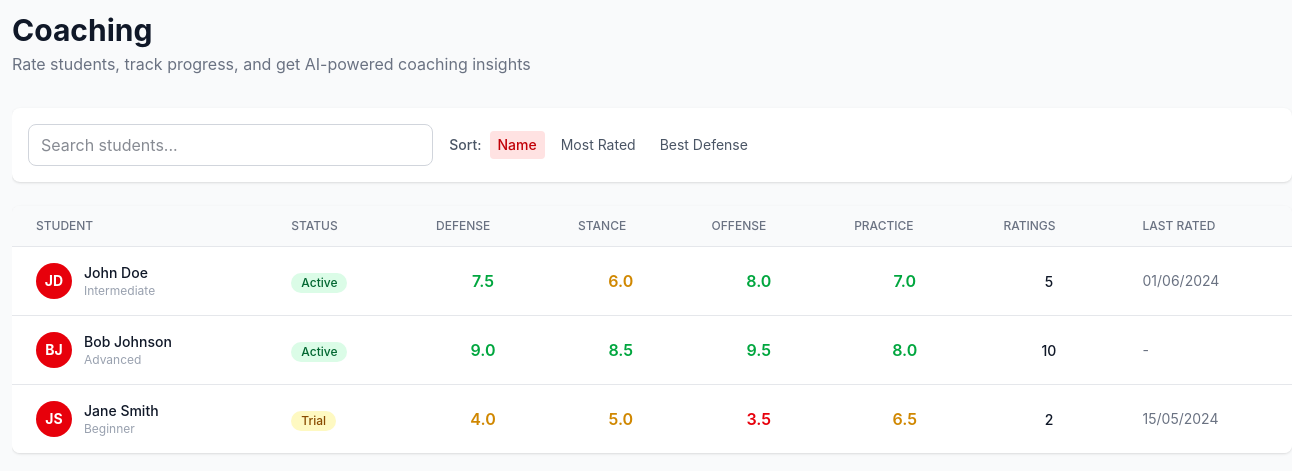
Test: Coaching Page › search filters results by student name
Check: the text "John Doe" is shown, box [84, 263, 155, 283]
Type "Jane" into the field with placeholder "Search students...".
click(231, 145); type("Jane")  # box [28, 124, 433, 166]
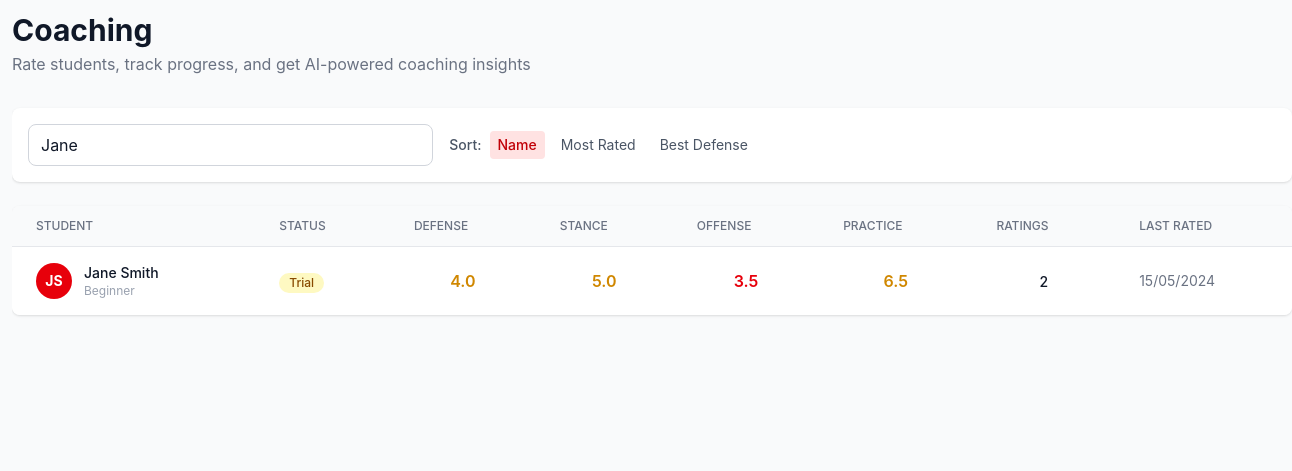
Check: the text "Jane Smith" is shown, box [84, 263, 159, 283]
Check: the text "John Doe" is gone
